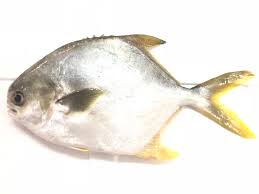Ikan Bawal: (1, 24, 258, 166)
